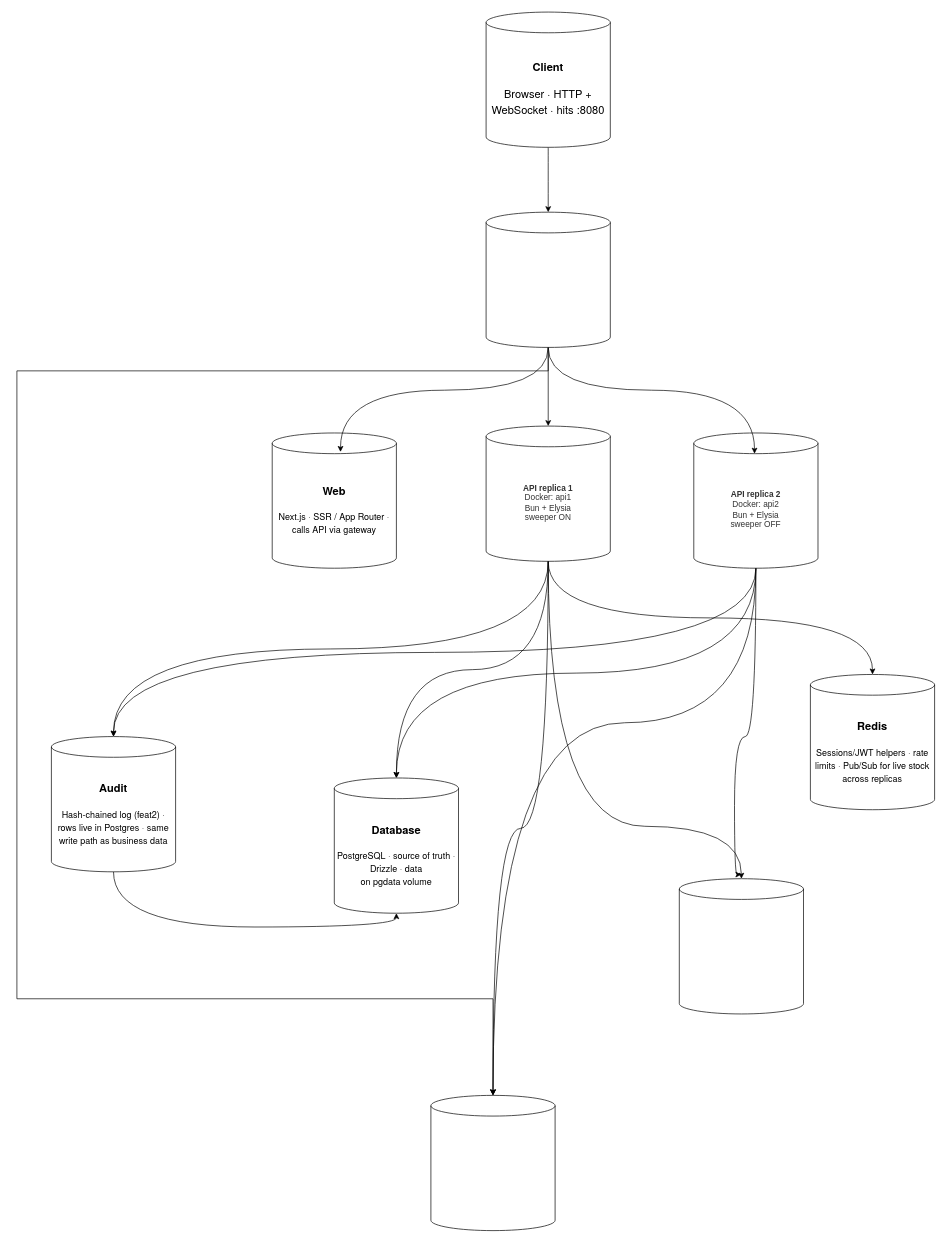
Image size: 947x1243. Some labels were removed from this diagram. The centre of each missing label's shape, as x and y in pixels:
Gateway NGINX · one entry · routes /→Web, /api→API · serves /uploads read-only: (x=547, y=279)
Mail MailHog · captures SMTP in dev · verification / password-change emails: (x=741, y=946)
Uploads Shared volume · API writes · gateway reads for static files: (x=492, y=1163)
